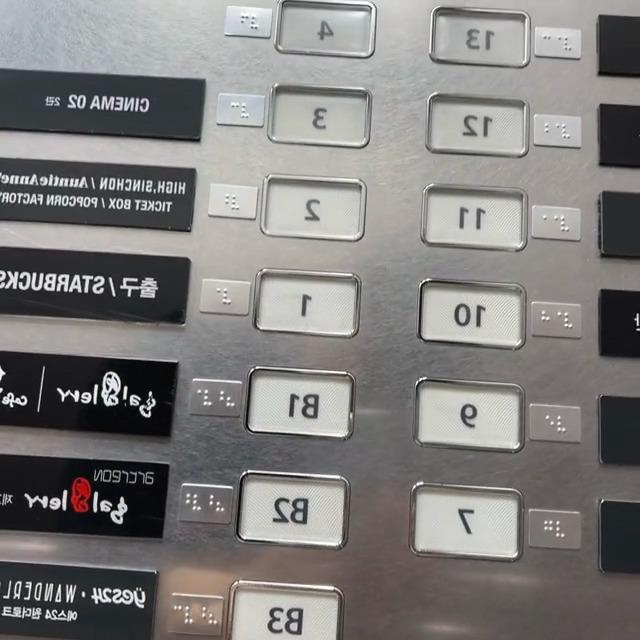button: (238, 370, 357, 444), (406, 488, 528, 560), (406, 384, 525, 455), (233, 478, 352, 546), (246, 274, 363, 340), (417, 188, 526, 257), (257, 177, 366, 242), (412, 286, 524, 348), (419, 98, 530, 158), (267, 5, 376, 65), (223, 588, 344, 640), (426, 9, 532, 67), (263, 89, 370, 144)
